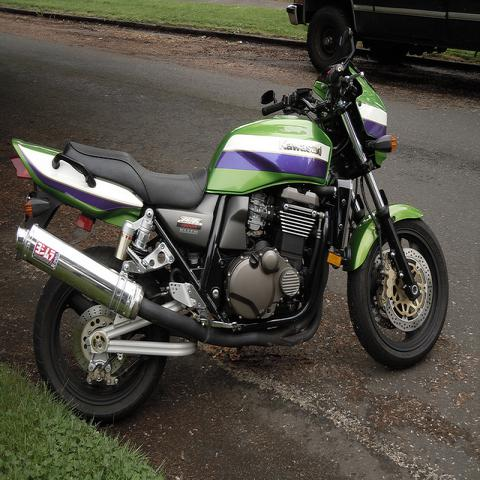motorcycle: (9, 27, 454, 427)
truck: (286, 2, 479, 76)
